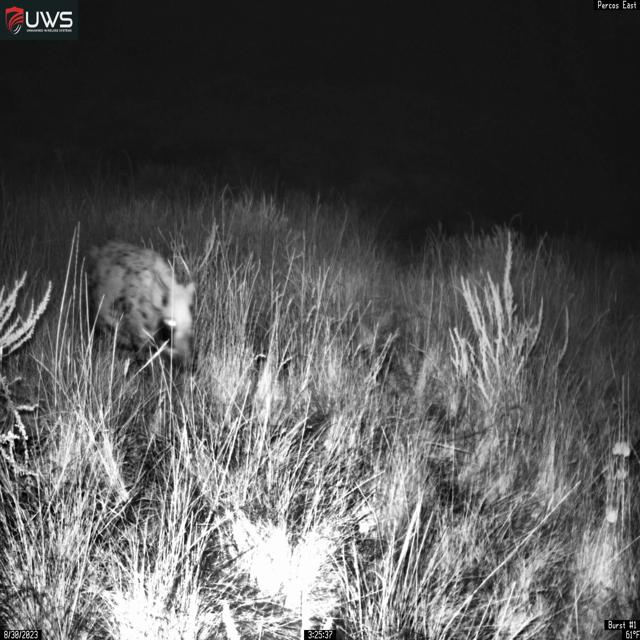pig: (86, 237, 198, 376)
